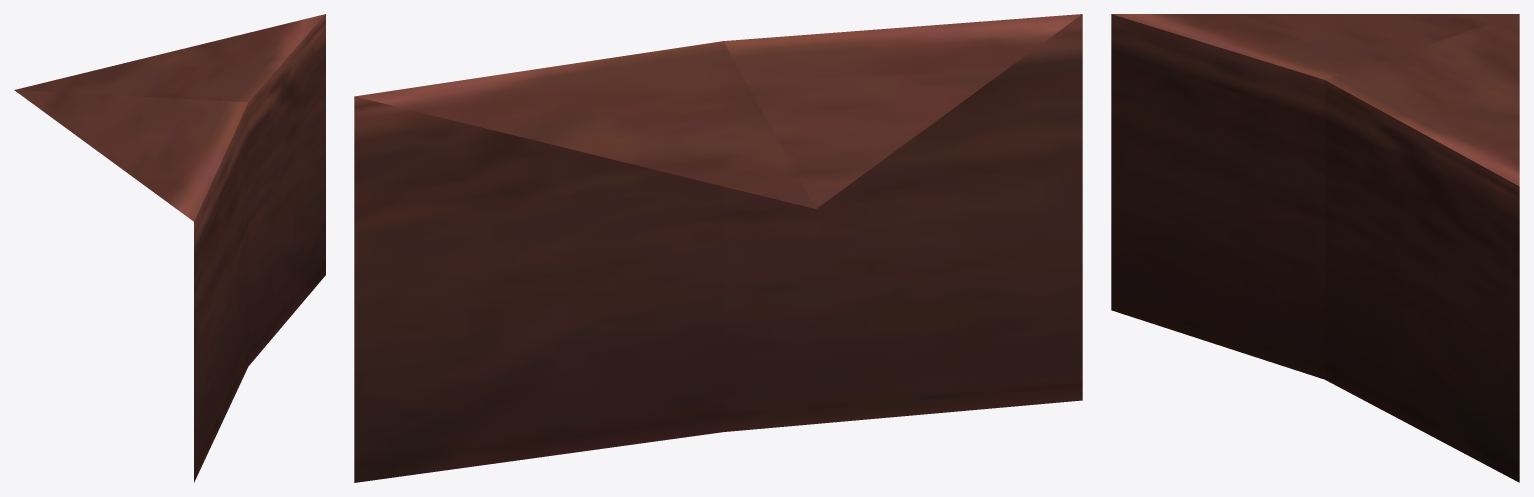
The model's file is lava_cap_convex_01.fbx.
The picture shows the model from 3 angles, left to right: view 1: azimuth 30°, elevation 25°; view 2: azimuth 150°, elevation 25°; view 3: azimuth 270°, elevation 25°; orthographic projection. The views are drawn at different scales.
Visible parts, largest first — view 1: obj0.047; view 2: obj0.047; view 3: obj0.047.
Part boxes in pixels (bbox=[...]): obj0.047: bbox=[14, 14, 325, 482]; obj0.047: bbox=[354, 14, 1082, 482]; obj0.047: bbox=[1111, 14, 1519, 482].
Size of the model in its own units: 0.625 by 0.5275 by 0.625.
